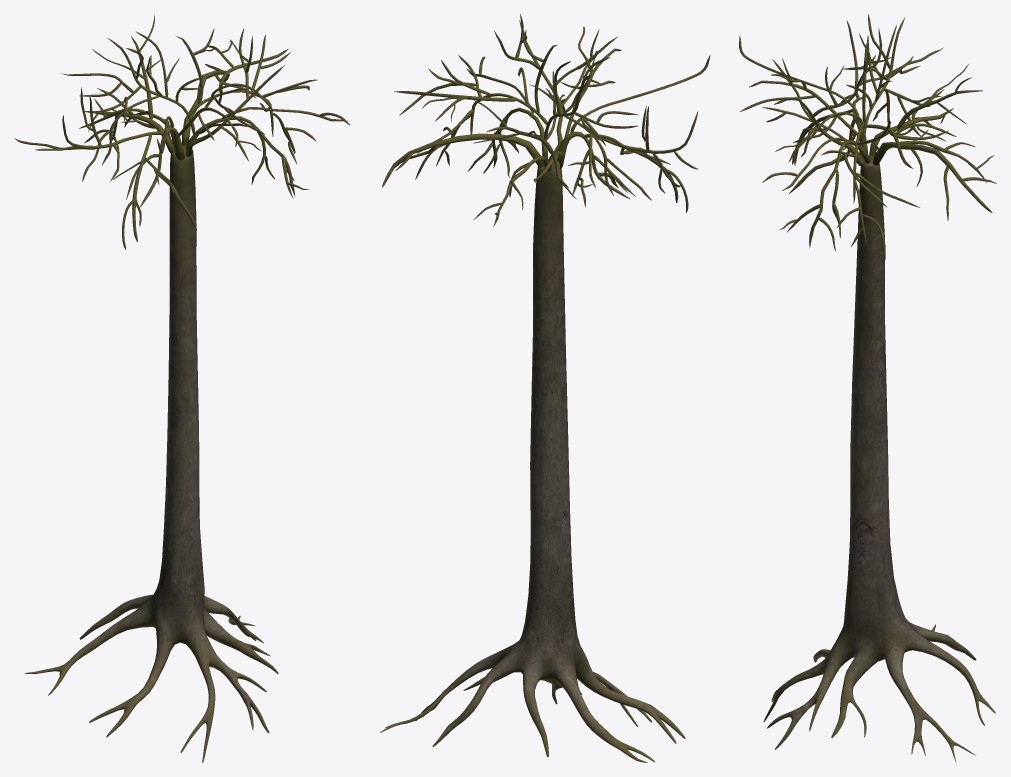
File: shisong.obj
3 renders of one model, left to right at view 1: azimuth 30°, elevation 25°; view 2: azimuth 150°, elevation 25°; view 3: azimuth 270°, elevation 25°, orthographic. The views are drawn at different scales.
Parts seen in each view (by area): view 1: shisong; view 2: shisong; view 3: shisong.
Boxes of the visible parts, x1,y1,x2,y2 form: shisong: (14, 14, 350, 762); shisong: (380, 14, 710, 762); shisong: (739, 14, 996, 762).
Bounding box in the file's own units: 75.66 × 175 × 58.86.
Materials: 1 (1 with a texture image).
